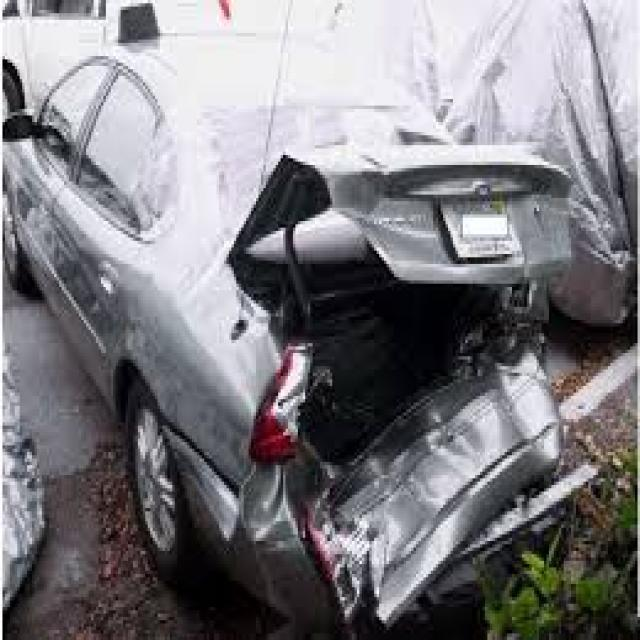damaged-trunk: (240, 134, 574, 312)
